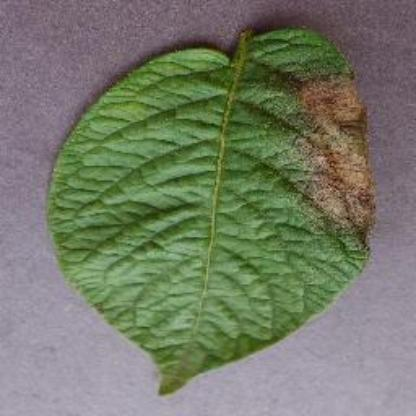Late-Blight: (41, 15, 378, 392)
